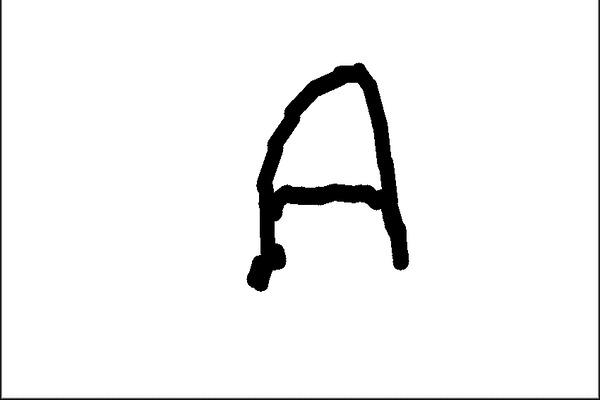A: (234, 48, 425, 294)
